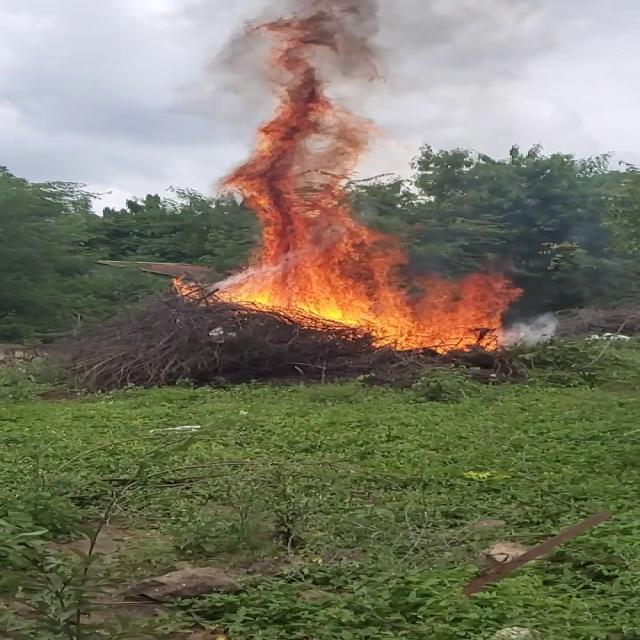Fire: (206, 244, 516, 348)
Smoke: (215, 0, 418, 229)
